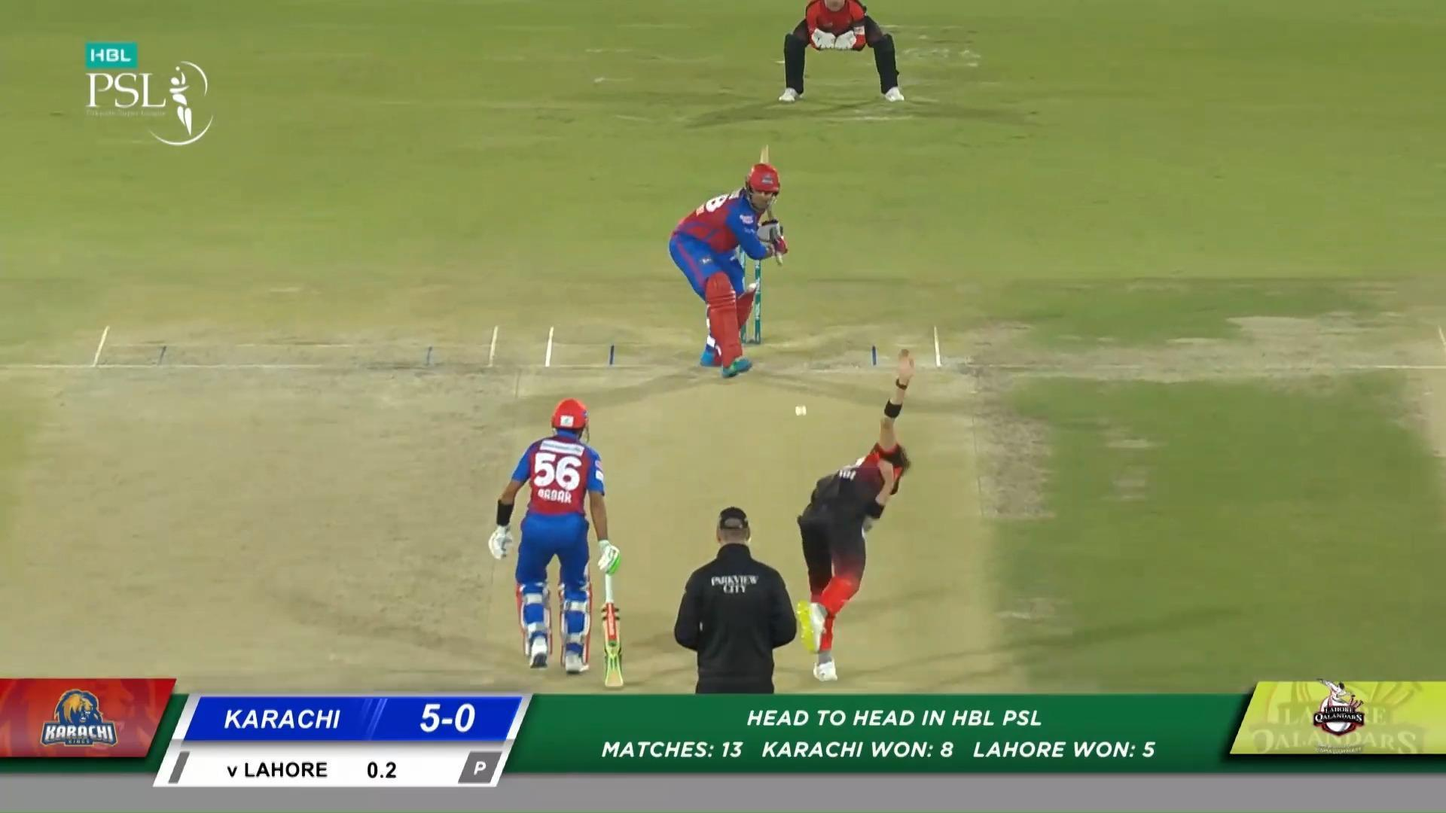BM 1: (668, 143, 790, 380)
BO: (796, 346, 918, 684)
